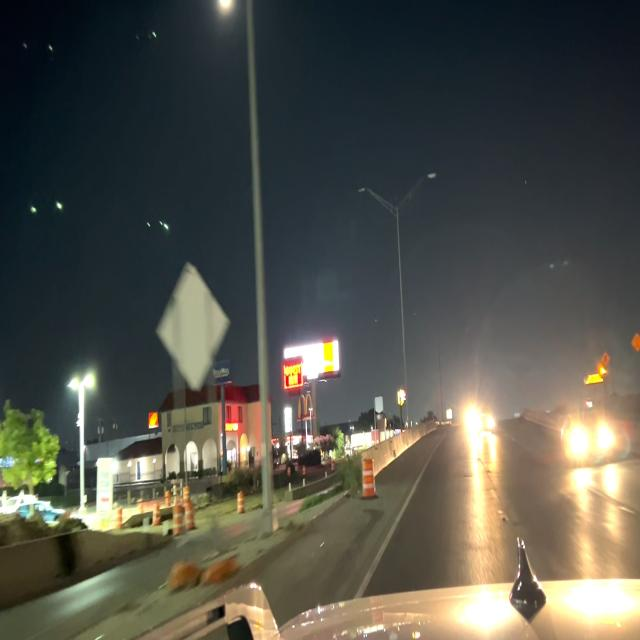back-of-sign: (153, 261, 230, 393)
